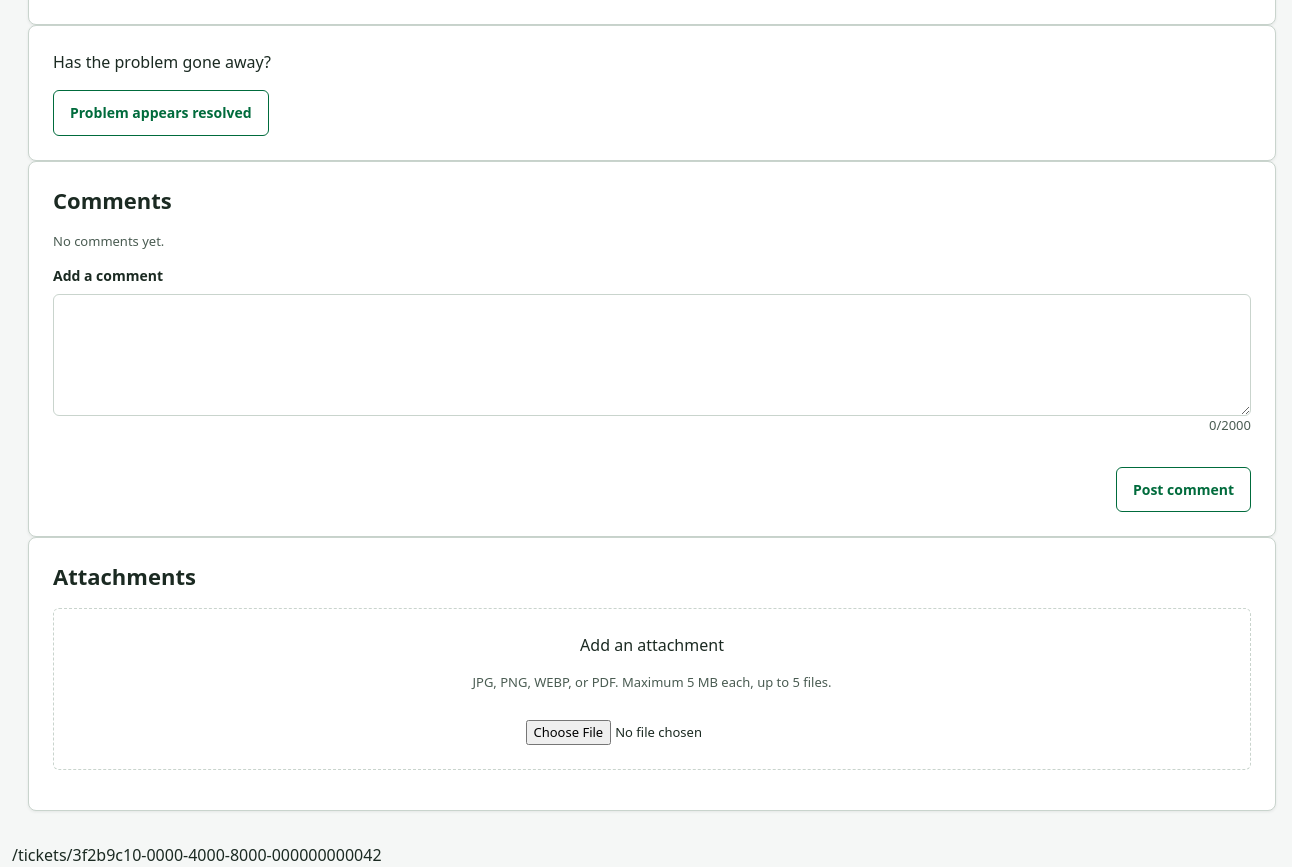
Test: UI-35 (AC-25) - Requester comments › blocks an empty comment without a request
(page scrolled)
Expected: the element with test id "comments-card" is shown, [28, 161, 1276, 537]
Click the button with test id "btn-post-comment" at (1184, 490), box [1116, 467, 1251, 512]
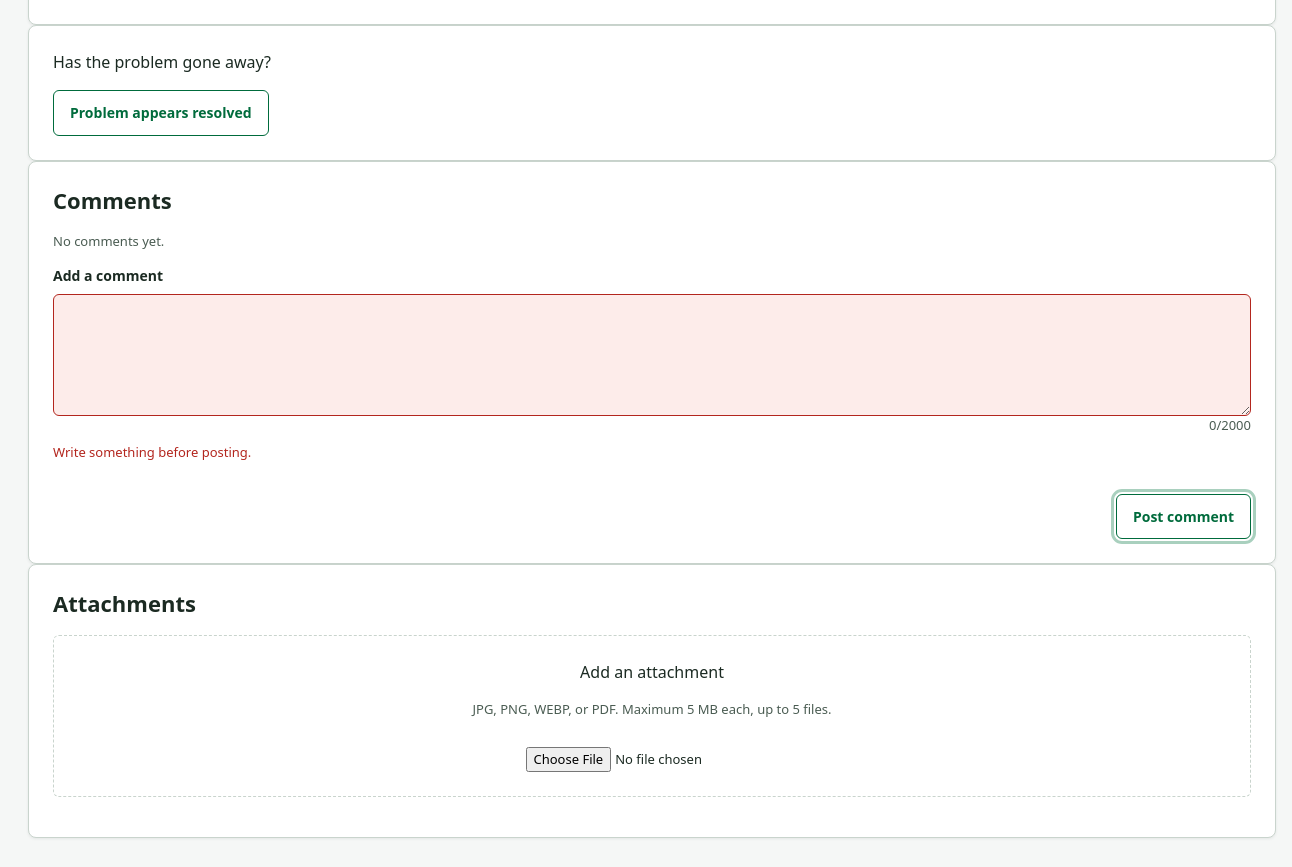
Expected: the text "Write something before posting." is shown, [53, 443, 251, 461]
